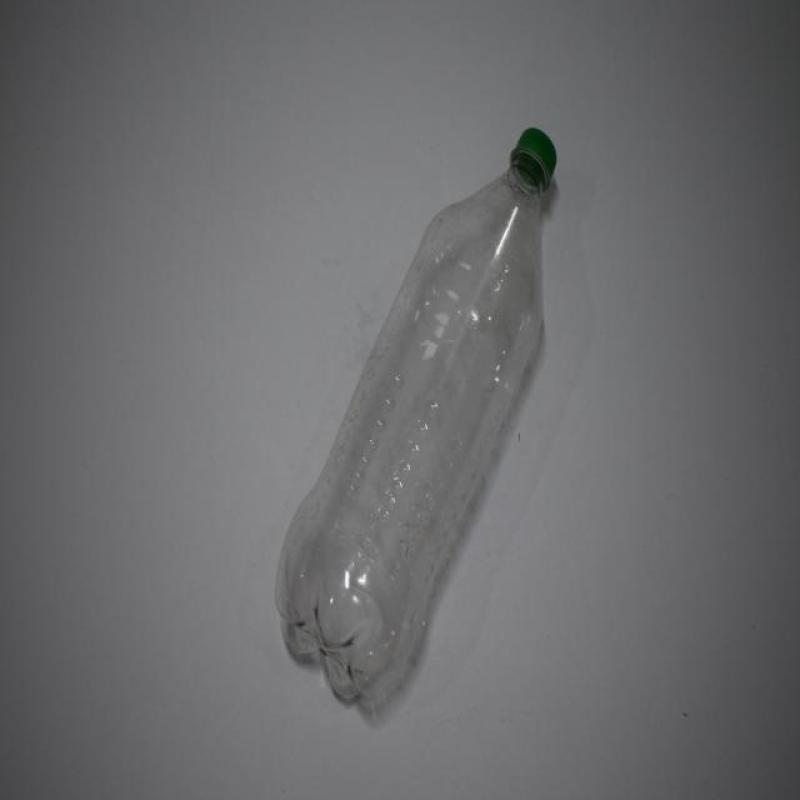botella: (278, 127, 560, 722)
